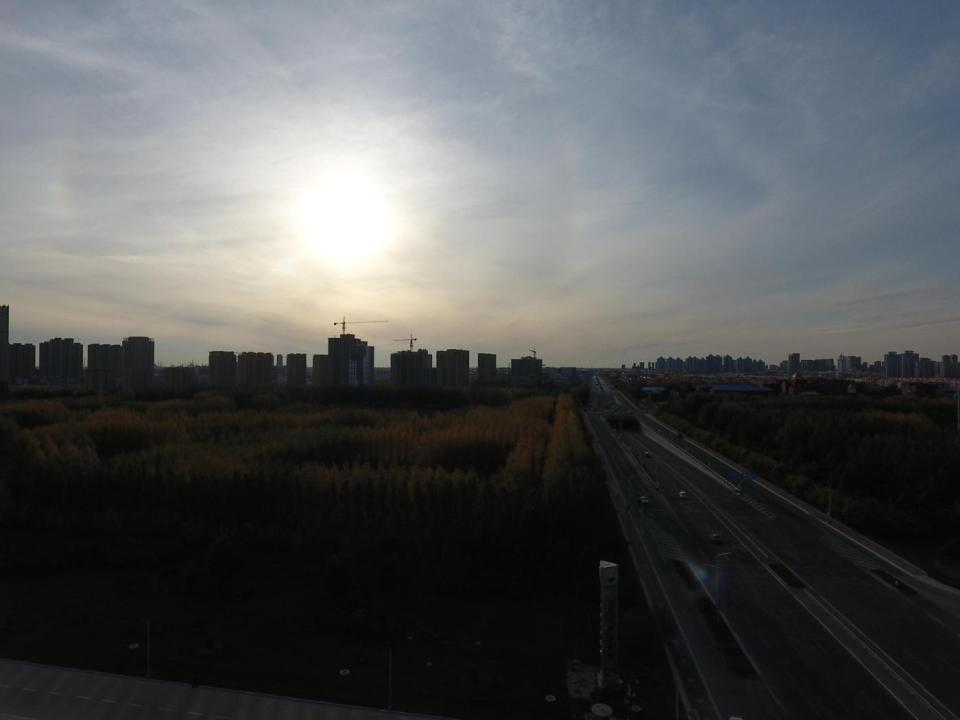car: (710, 532, 721, 543), (638, 495, 650, 505), (678, 490, 688, 498), (643, 450, 651, 458)
